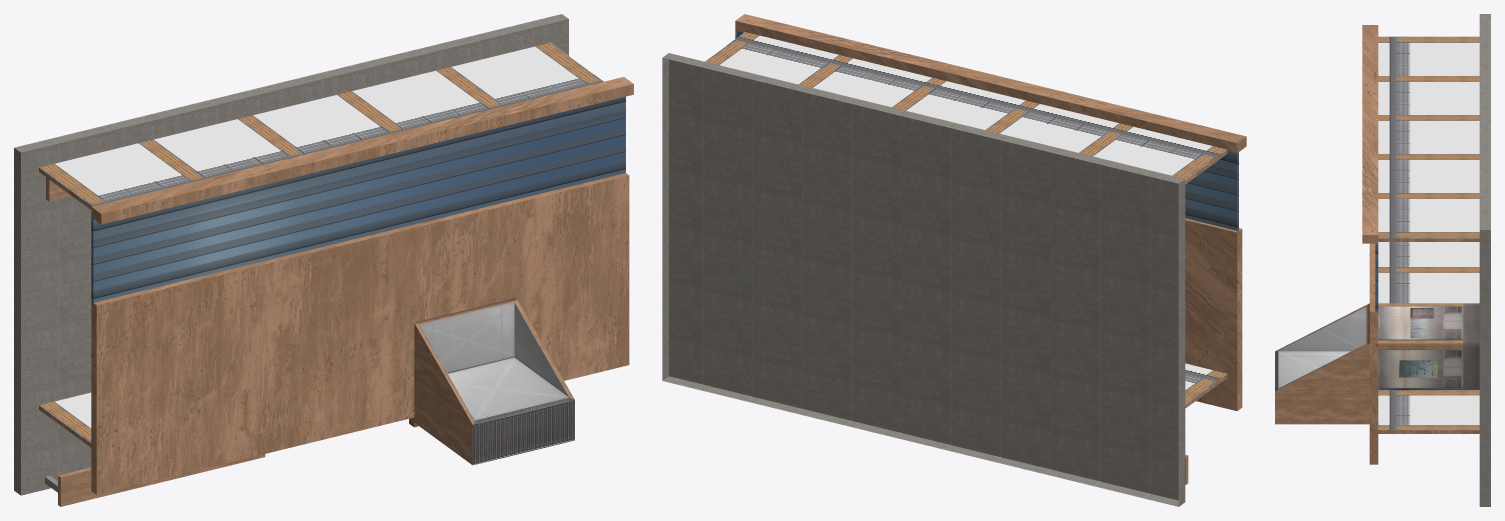
File: YDH_02.gltf
3 views of the same model, side by side, from view 1: azimuth 30°, elevation 25°; view 2: azimuth 150°, elevation 25°; view 3: azimuth 270°, elevation 25° (orthographic). The views are drawn at different scales.
Size of the model in its own units: 35.29 by 21.11 by 14.9.
10 materials, 10 textured.
